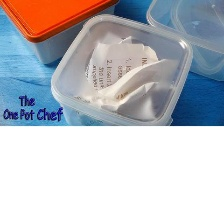plastic_box: (44, 9, 198, 125), (0, 0, 125, 68), (140, 0, 224, 87)
